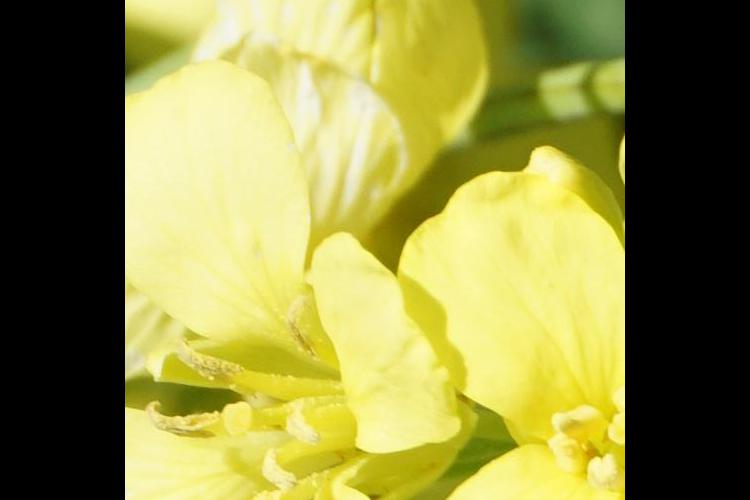yellow: (129, 97, 437, 500), (414, 164, 626, 500), (196, 1, 467, 206)
